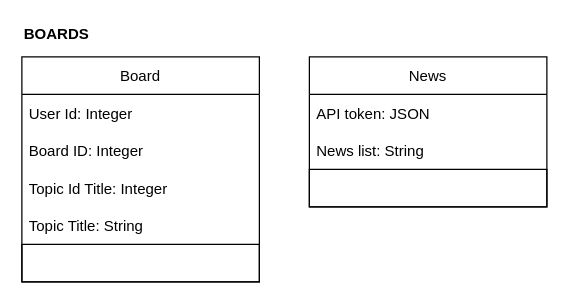
Some shapes in this 569 by 304 pixel diagram are drawn without their labels. Here are the shapes that lost their labels. From the top down, the centre of each, then its label:
At point 427,187: "news_repo()".
At point 140,262: "board_repo() topic_list()".
